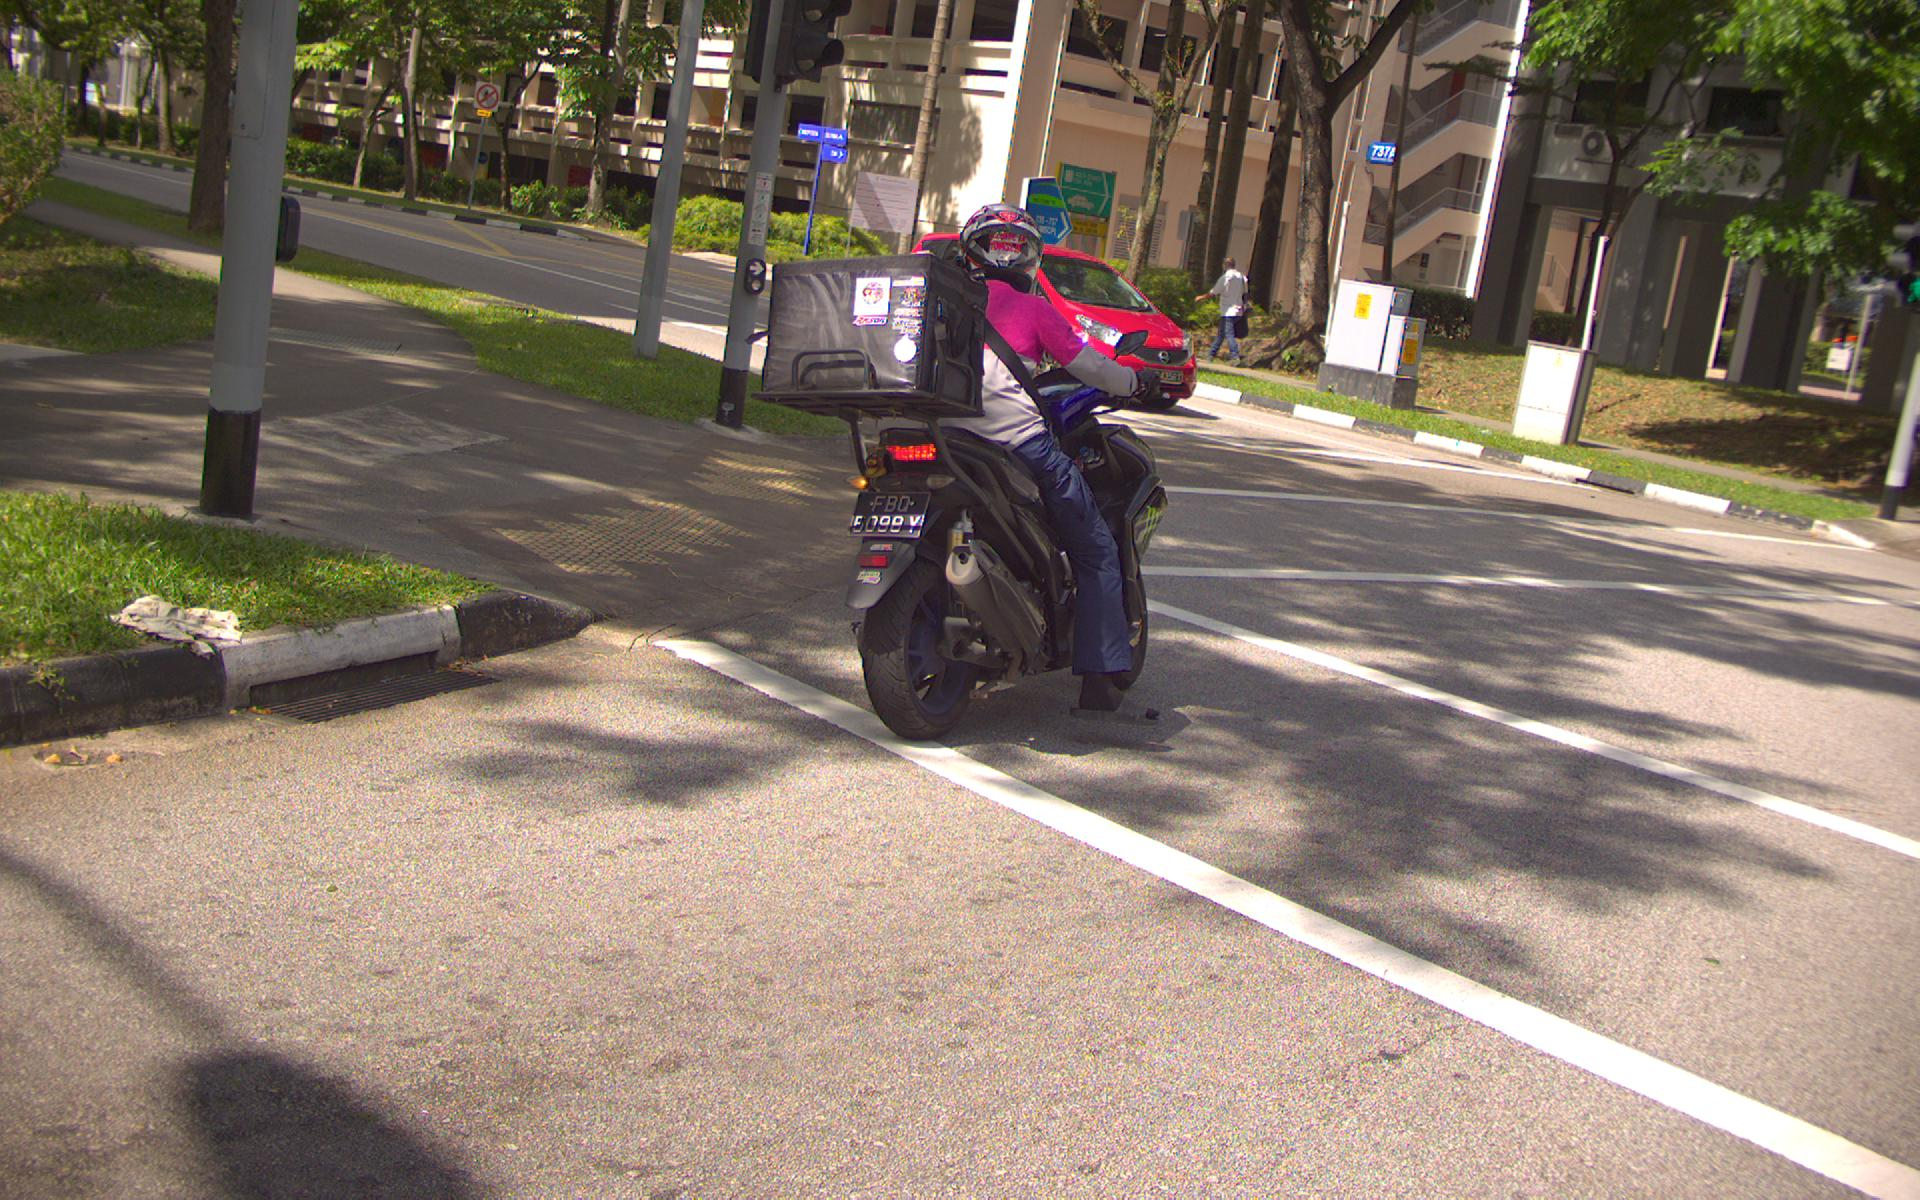curb_dic_low: (234, 637, 529, 727)
pathway_low: (283, 375, 534, 532), (10, 362, 281, 488), (282, 308, 423, 366)
road_turf_low: (4, 503, 187, 636), (6, 247, 134, 337), (500, 321, 663, 384)
